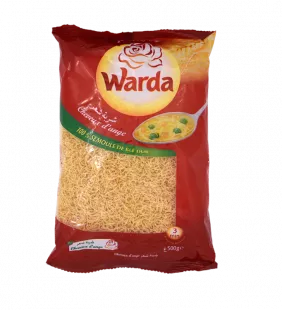LA ROSE BLANCHE: (35, 19, 229, 285)
